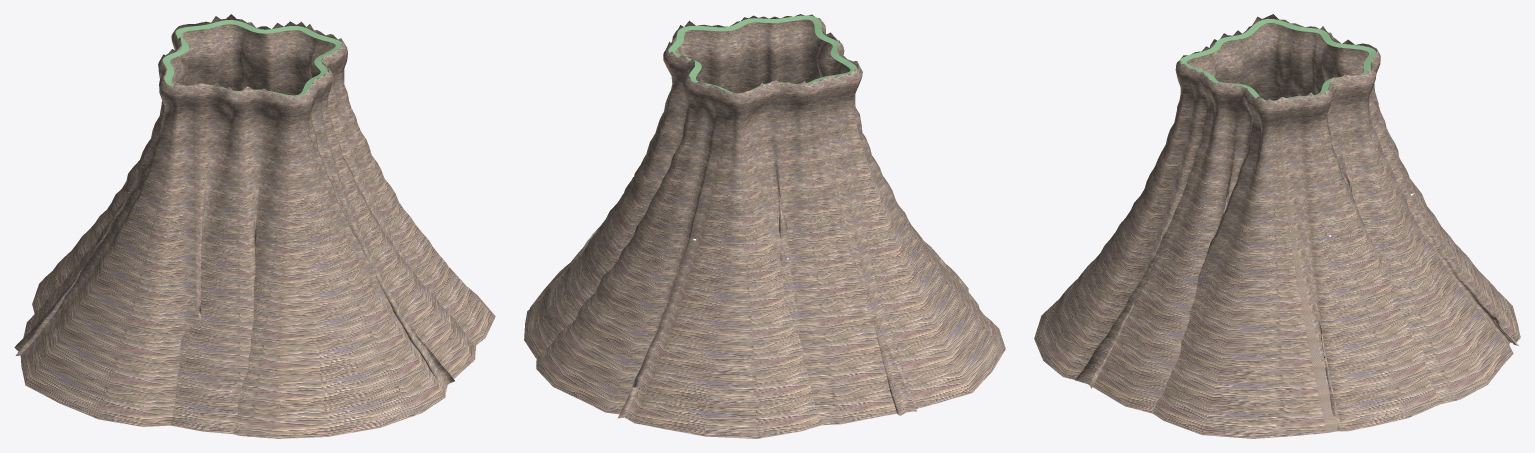
Rendered from CliffWall_stack_08.glb.
3 views of the same model, side by side, from view 1: azimuth 30°, elevation 25°; view 2: azimuth 150°, elevation 25°; view 3: azimuth 270°, elevation 25° (orthographic). The views are drawn at different scales.
Visible parts, largest first — view 1: CliffWall_stack_08-rock0, CliffWall_stack_08-lip0; view 2: CliffWall_stack_08-rock0, CliffWall_stack_08-lip0; view 3: CliffWall_stack_08-rock0, CliffWall_stack_08-lip0.
Boxes of the visible parts, bbox=[...] form: CliffWall_stack_08-rock0: bbox=[14, 14, 495, 438]; CliffWall_stack_08-lip0: bbox=[162, 20, 341, 97]; CliffWall_stack_08-rock0: bbox=[524, 14, 1005, 438]; CliffWall_stack_08-lip0: bbox=[668, 15, 857, 93]; CliffWall_stack_08-rock0: bbox=[1034, 14, 1520, 438]; CliffWall_stack_08-lip0: bbox=[1180, 19, 1375, 101].
Size of the model in its own units: 612 by 386 by 607.
Materials: 4 (1 with a texture image).
